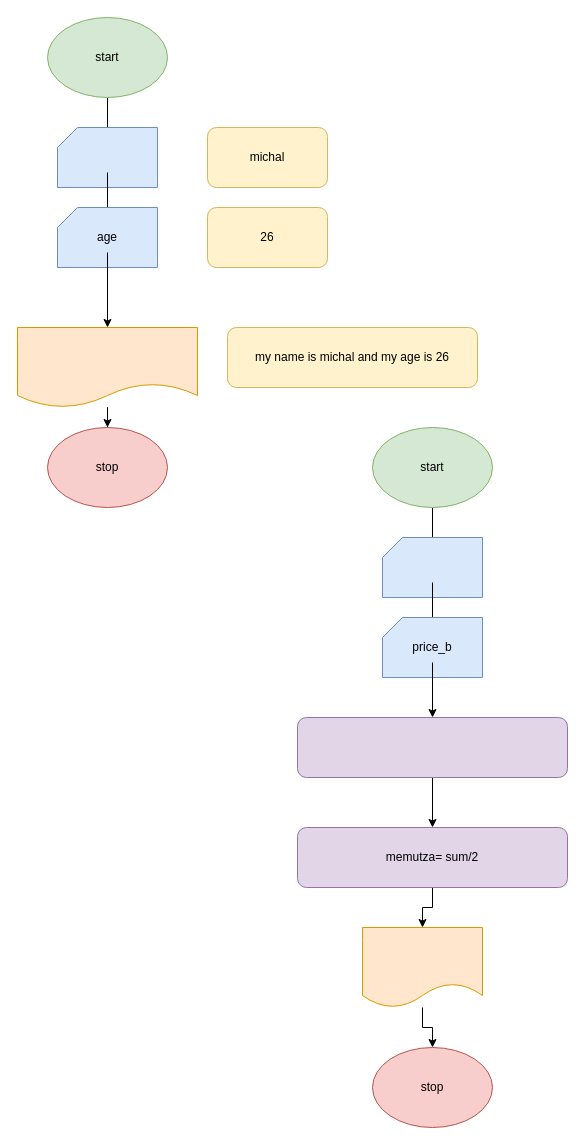
The diagram is 585 pixels wide and 1145 high, and some of its shapes have lost their labels. Here are the shapes that lost their labels. From the top down, the centre of each, then its label:
(107,157): name
(107,367): "my nam is:" + name + "and my age is" + age
(432,567): price_a
(432,747): sum= price_a + price_b
(422,967): "the average is" + memutza
